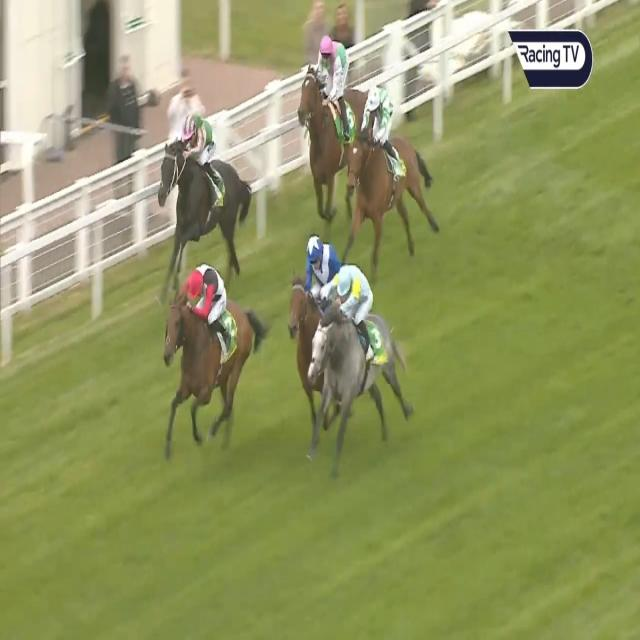horses-racing: (148, 244, 266, 439), (151, 104, 255, 285), (308, 239, 386, 479), (348, 84, 437, 279), (287, 31, 367, 210), (285, 225, 334, 360)
